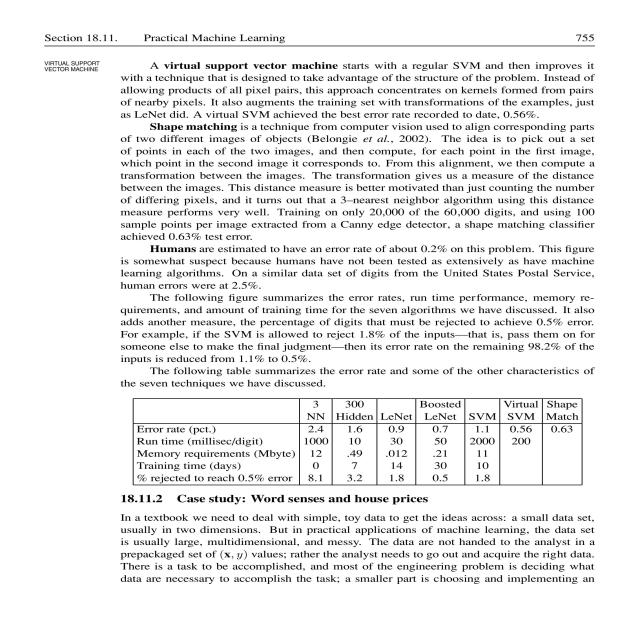diagram: (108, 388, 610, 494)
